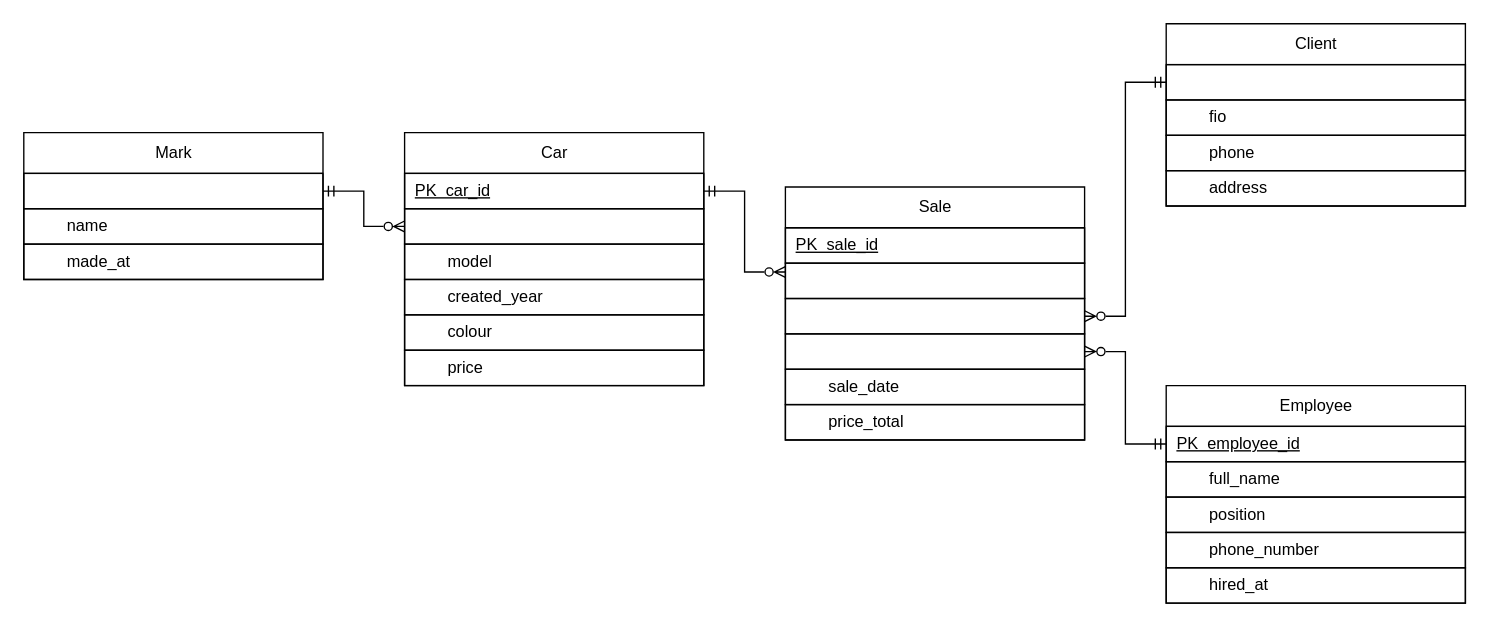
This 1489x627 diagram has some shape labels left out. The shapes that lost their labels are listed below. From the top down, each one's centre as x and y in pixels, then its label:
point 1315,81: PK client_id
point 172,190: PK mark_id
point 553,225: FK mark_id ^
point 934,280: FK car_id ^
point 934,315: FK client_id ^
point 934,351: FK employee_id ^
